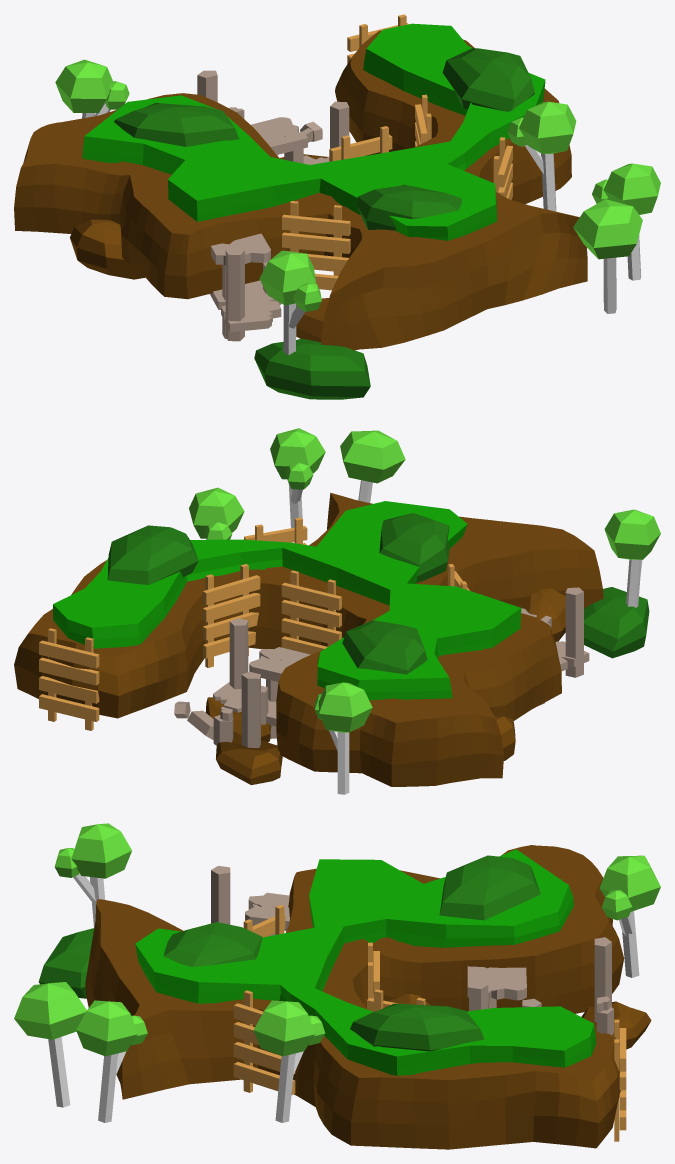
Rendered from forest_birch_dig.glb.
The picture shows the model from 3 angles, top to bottom: view 1: azimuth 30°, elevation 25°; view 2: azimuth 150°, elevation 25°; view 3: azimuth 270°, elevation 25°; orthographic projection. The views are drawn at different scales.
Parts seen in each view (by area): view 1: Digsite, Plane, bush.029, Ruins1.001, bush, bush.030, Tree2, Tree1.002, Tree1.003, diggingWood.003, bush.028, Tree1.001 (+9 smaller); view 2: Digsite, Plane, bush, diggingWood.001, Ruins1, diggingWood, bush.029, bush.030, diggingWood.002, bush.028, Tree1.001, Tree2 (+10 smaller); view 3: Digsite, Plane, bush.030, bush, Tree2, Tree1, Tree1.002, Tree1.001, Tree1.003, bush.028, diggingWood.004, Ruins1 (+7 smaller).
Boxes of the visible parts, <box> form: Digsite: <box>14,30,587,350</box>; Plane: <box>82,23,545,240</box>; bush.029: <box>254,338,370,399</box>; Ruins1.001: <box>210,233,281,341</box>; bush: <box>442,48,534,111</box>; bush.030: <box>114,103,239,146</box>; Tree2: <box>573,199,642,313</box>; Tree1.002: <box>507,101,576,211</box>; Tree1.003: <box>259,250,321,355</box>; diggingWood.003: <box>282,201,350,290</box>; bush.028: <box>357,184,461,230</box>; Tree1.001: <box>55,59,129,118</box>; Digsite: <box>14,492,603,786</box>; Plane: <box>53,501,521,700</box>; bush: <box>107,525,198,584</box>; diggingWood.001: <box>39,628,99,730</box>; Ruins1: <box>213,618,310,738</box>; diggingWood: <box>281,570,341,654</box>; bush.029: <box>584,587,649,658</box>; bush.030: <box>342,620,427,674</box>; diggingWood.002: <box>202,564,260,667</box>; bush.028: <box>379,513,449,582</box>; Tree1.001: <box>314,682,372,794</box>; Tree2: <box>340,430,405,502</box>; Digsite: <box>85,845,624,1149</box>; Plane: <box>135,849,596,1075</box>; bush.030: <box>439,855,540,920</box>; bush: <box>350,1003,484,1051</box>; Tree2: <box>14,982,86,1107</box>; Tree1: <box>76,1000,147,1122</box>; Tree1.002: <box>253,1000,325,1122</box>; Tree1.001: <box>599,855,660,977</box>; Tree1.003: <box>54,823,131,928</box>; bush.028: <box>163,922,262,966</box>; diggingWood.004: <box>233,990,295,1094</box>; Ruins1: <box>467,966,541,1010</box>.
Size of the model in its own units: 8.56 by 2.53 by 9.56.
